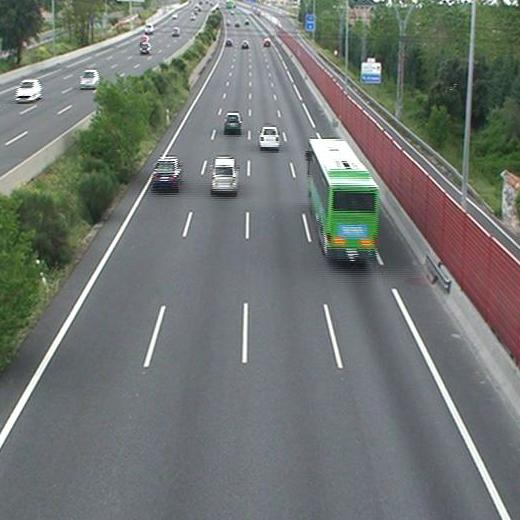bus: (306, 138, 378, 261)
car: (211, 158, 238, 190), (153, 158, 181, 186), (260, 127, 280, 148), (224, 113, 242, 131)
